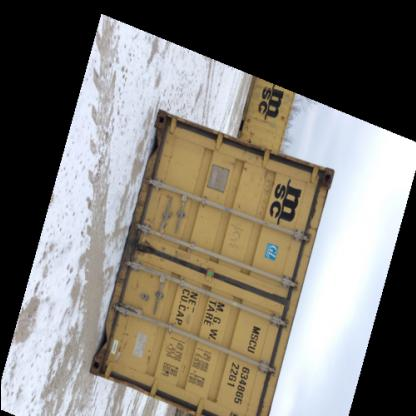Damage: (305, 168, 338, 230), (88, 324, 132, 366), (134, 204, 170, 242), (132, 236, 174, 266), (118, 257, 142, 305)
